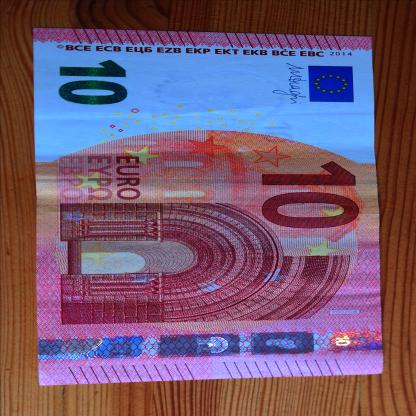euro_banknote: (30, 33, 388, 378)
